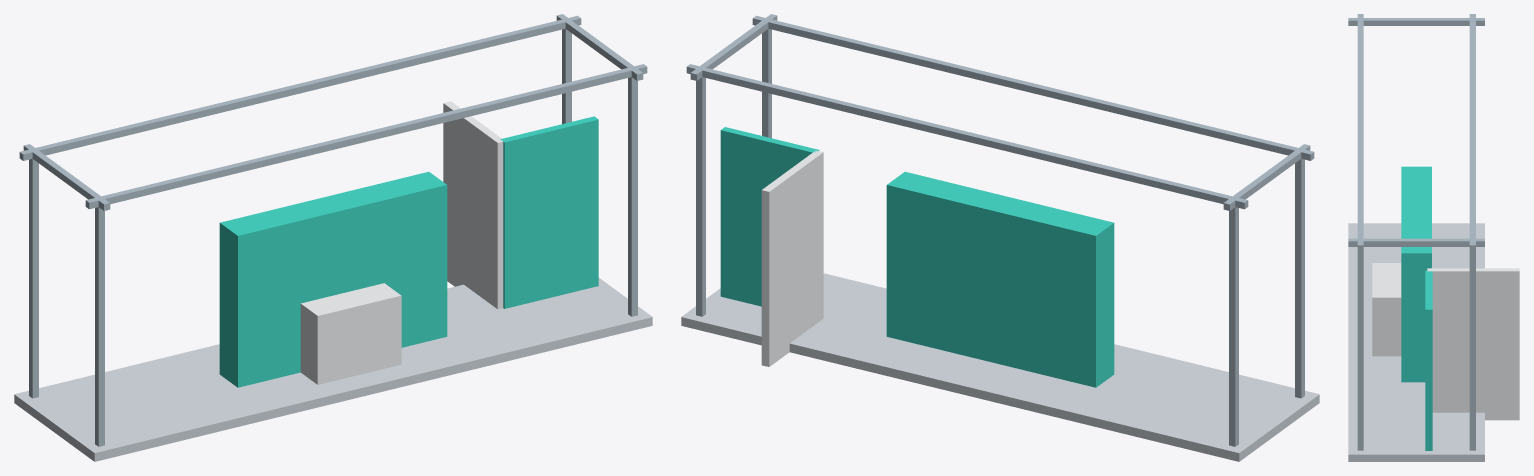
3 renders of one model, left to right at view 1: azimuth 30°, elevation 25°; view 2: azimuth 150°, elevation 25°; view 3: azimuth 270°, elevation 25°, orthographic. The views are drawn at different scales.
Parts seen in each view (by area): view 1: Exhibition Booth Concept; view 2: Exhibition Booth Concept; view 3: Exhibition Booth Concept.
Part boxes in pixels (box(x1,y1,x2,y2)): Exhibition Booth Concept: box(14, 14, 652, 461); Exhibition Booth Concept: box(681, 14, 1319, 461); Exhibition Booth Concept: box(1348, 14, 1519, 461).
Bounding box in the file's own units: 8 × 3.49 × 2.5.
